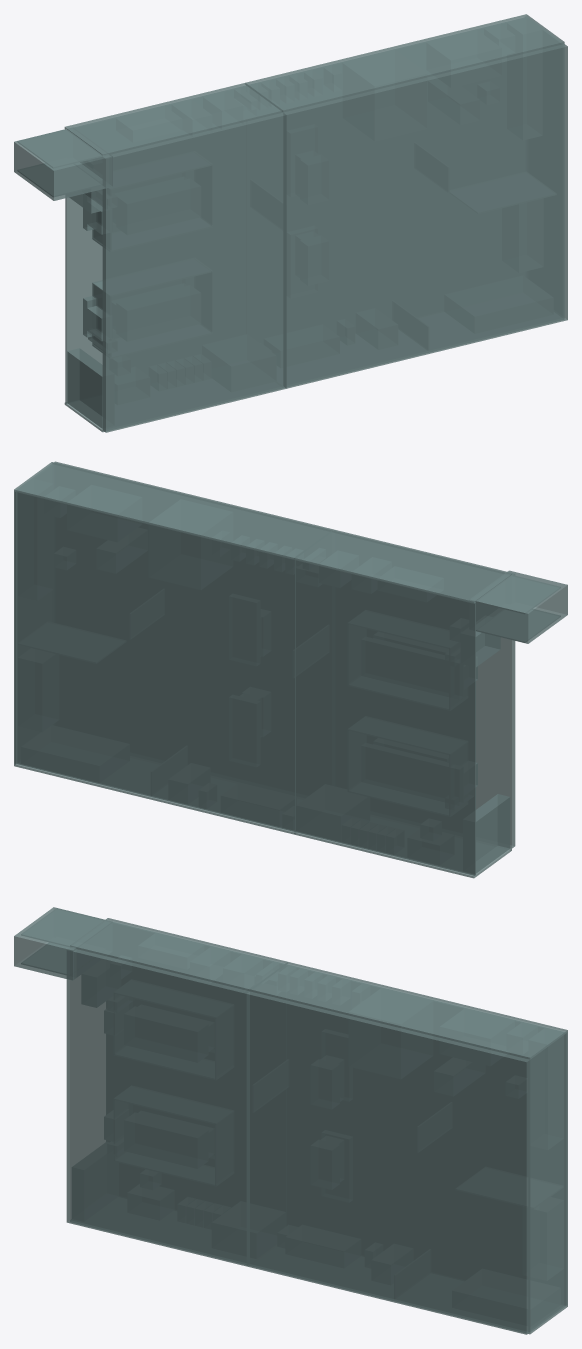
Rendered from Minato_Maru_ER_Reference.obj.
3 renders of one model, top to bottom at view 1: azimuth 30°, elevation 25°; view 2: azimuth 150°, elevation 25°; view 3: azimuth 330°, elevation 25°, orthographic.
Visible parts, largest first — view 1: B1054_machinery_space_deckhead, B0799_engine_room_deckhead, B1052_machinery_space_side, B0794_engine_room_side, B0793_ladder_volume, B0800_floor_plates, B0924_main_switchboard, B0782_ladder_trunk, B0781_ladder_trunk, B1117_sewage_holding_tank, B1141_lathe, B0904_workbench; view 2: B1056_floor_plates, B0800_floor_plates, B1052_machinery_space_side, B0794_engine_room_side, B0799_engine_room_deckhead, B0793_ladder_volume, B1117_sewage_holding_tank, B0817_main_engine_bedplate, B0840_main_engine_bedplate, B1141_lathe, B0924_main_switchboard, B0782_ladder_trunk (+16 smaller); view 3: B1054_machinery_space_deckhead, B0799_engine_room_deckhead, B1052_machinery_space_side, B1060_store_forward_bulkhead, B0794_engine_room_side, B0793_ladder_volume, B0782_ladder_trunk, B1056_floor_plates, B1178_oil_drums, B1134_workshop_bench, B0781_ladder_trunk, B0904_workbench (+1 smaller).
Boxes of the visible parts, x1,y1,x2,y2 form: B1054_machinery_space_deckhead: (283, 44, 567, 388); B0799_engine_room_deckhead: (102, 112, 286, 432); B1052_machinery_space_side: (246, 14, 564, 112); B0794_engine_room_side: (64, 82, 283, 155); B0793_ladder_volume: (14, 127, 112, 200); B0800_floor_plates: (65, 86, 246, 403); B0924_main_switchboard: (67, 348, 102, 428); B0782_ladder_trunk: (17, 129, 102, 168); B0781_ladder_trunk: (17, 163, 102, 196); B1117_sewage_holding_tank: (343, 50, 426, 85); B1141_lathe: (427, 32, 501, 60); B0904_workbench: (117, 107, 181, 130); B1056_floor_plates: (15, 492, 295, 831); B0800_floor_plates: (295, 559, 475, 875); B1052_machinery_space_side: (14, 462, 331, 559); B0794_engine_room_side: (294, 530, 511, 603); B0799_engine_room_deckhead: (334, 530, 515, 848); B0793_ladder_volume: (469, 570, 567, 643); B1117_sewage_holding_tank: (149, 499, 232, 589); B0817_main_engine_bedplate: (361, 639, 459, 699); B0840_main_engine_bedplate: (361, 746, 459, 805); B1141_lathe: (67, 485, 141, 541); B0924_main_switchboard: (463, 794, 510, 873); B0782_ladder_trunk: (476, 575, 560, 614); B1054_machinery_space_deckhead: (246, 991, 530, 1334); B0799_engine_room_deckhead: (66, 948, 249, 1266); B1052_machinery_space_side: (250, 962, 567, 1059); B1060_store_forward_bulkhead: (528, 1032, 567, 1331); B0794_engine_room_side: (70, 918, 287, 991); B0793_ladder_volume: (14, 907, 112, 980); B0782_ladder_trunk: (21, 908, 104, 946); B1056_floor_plates: (287, 964, 567, 1305); B1178_oil_drums: (547, 1200, 563, 1280); B1134_workshop_bench: (529, 1030, 563, 1145); B0781_ladder_trunk: (21, 942, 69, 974); B0904_workbench: (139, 934, 202, 957).
Size of the model in its own units: 15660 by 8080 by 2200.
